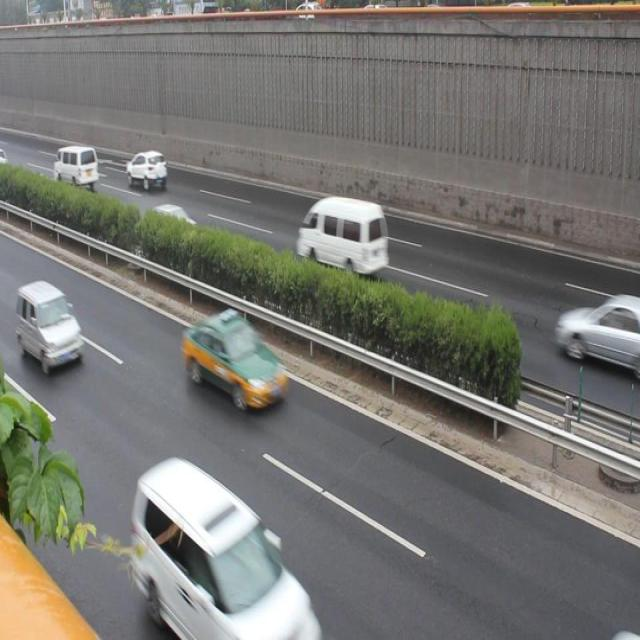car: (133, 456, 320, 640), (187, 306, 289, 413), (548, 289, 640, 384), (18, 276, 84, 369), (151, 194, 198, 242), (124, 149, 169, 196)
truck: (297, 192, 390, 286)
